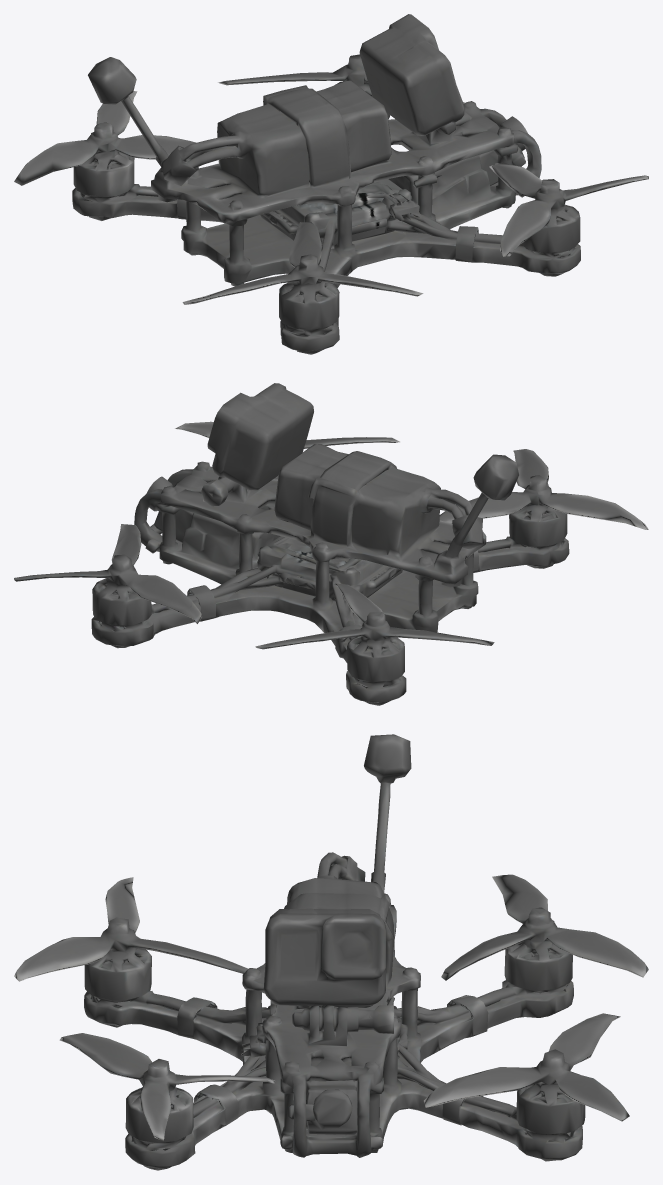
Rendered from FrostlineDrohne.glb.
The picture shows the model from 3 angles, top to bottom: view 1: azimuth 30°, elevation 25°; view 2: azimuth 150°, elevation 25°; view 3: azimuth 270°, elevation 25°; orthographic projection. The views are drawn at different scales.
Visible parts, largest first — view 1: tripo_node_9196a753-7e91-439f-a701-43fbbe08cfe9; view 2: tripo_node_9196a753-7e91-439f-a701-43fbbe08cfe9; view 3: tripo_node_9196a753-7e91-439f-a701-43fbbe08cfe9.
Part boxes in pixels (bbox=[...]): tripo_node_9196a753-7e91-439f-a701-43fbbe08cfe9: bbox=[14, 14, 648, 354]; tripo_node_9196a753-7e91-439f-a701-43fbbe08cfe9: bbox=[14, 383, 648, 705]; tripo_node_9196a753-7e91-439f-a701-43fbbe08cfe9: bbox=[14, 734, 648, 1170].
Bounding box in the file's own units: 0.4569 × 0.2 × 0.4629.
Materials: 1 (1 with a texture image).
